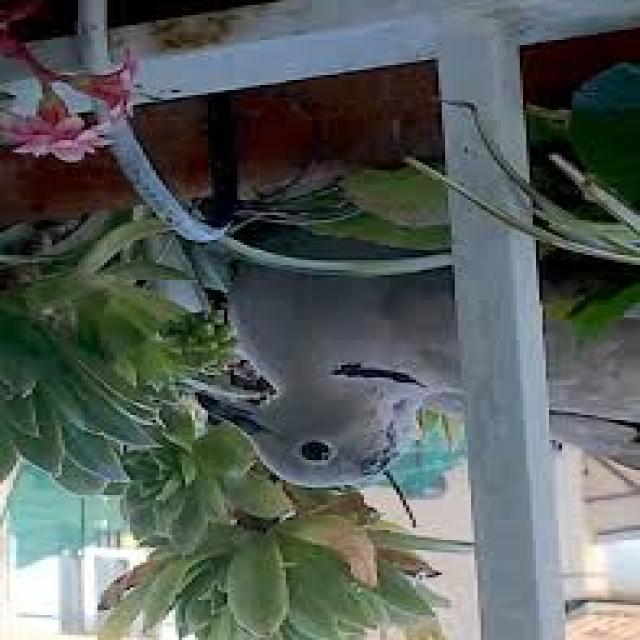pigeon: (184, 214, 640, 532)
